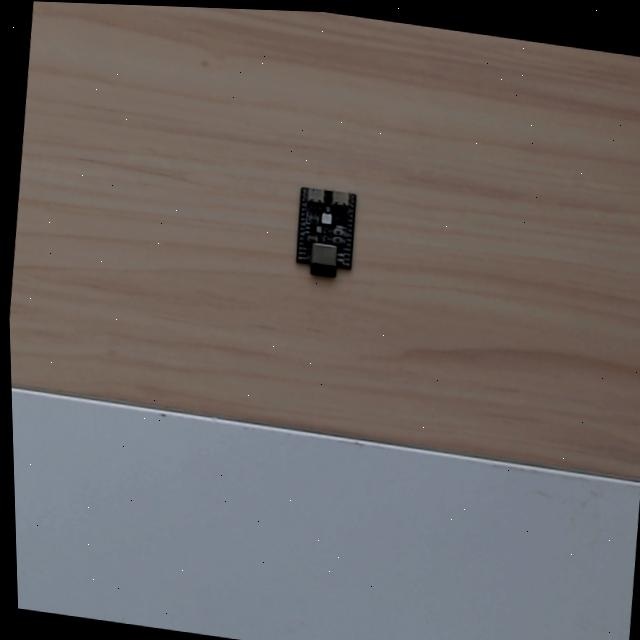ESP32C3-DevKit: (289, 181, 359, 282)
